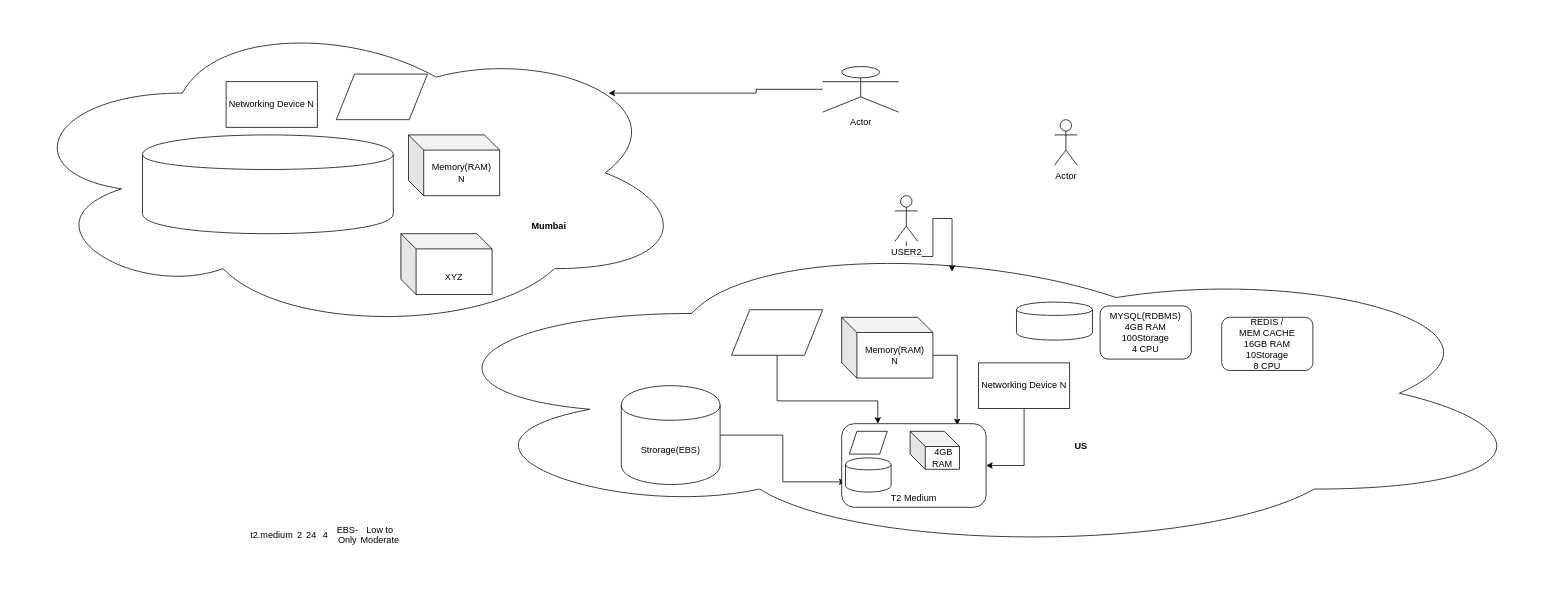
The diagram is 1554 pixels wide and 594 high, and some of its shapes have lost their labels. Here are the shapes that lost their labels. From the top down, the centre of each, then its label:
the point at 382,96: CPU N
the point at 267,184: Strorage N
the point at 777,332: CPU N Core
the point at 1054,320: File System
the point at 868,442: 2 CPU
the point at 868,474: EBS
